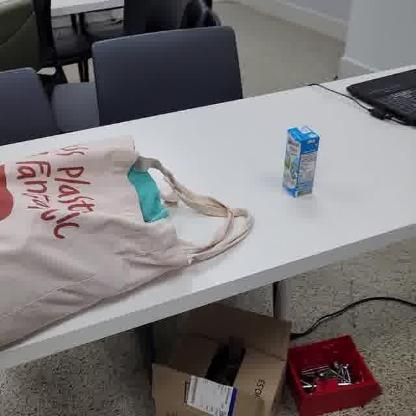Others: (278, 119, 324, 209)
